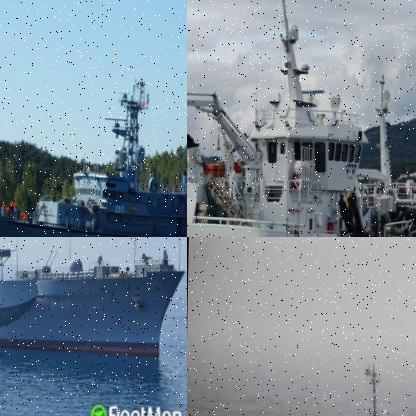Fishing Boat: (187, 0, 415, 236)
Military Ship: (0, 72, 186, 236), (0, 237, 186, 358), (207, 359, 415, 415)
